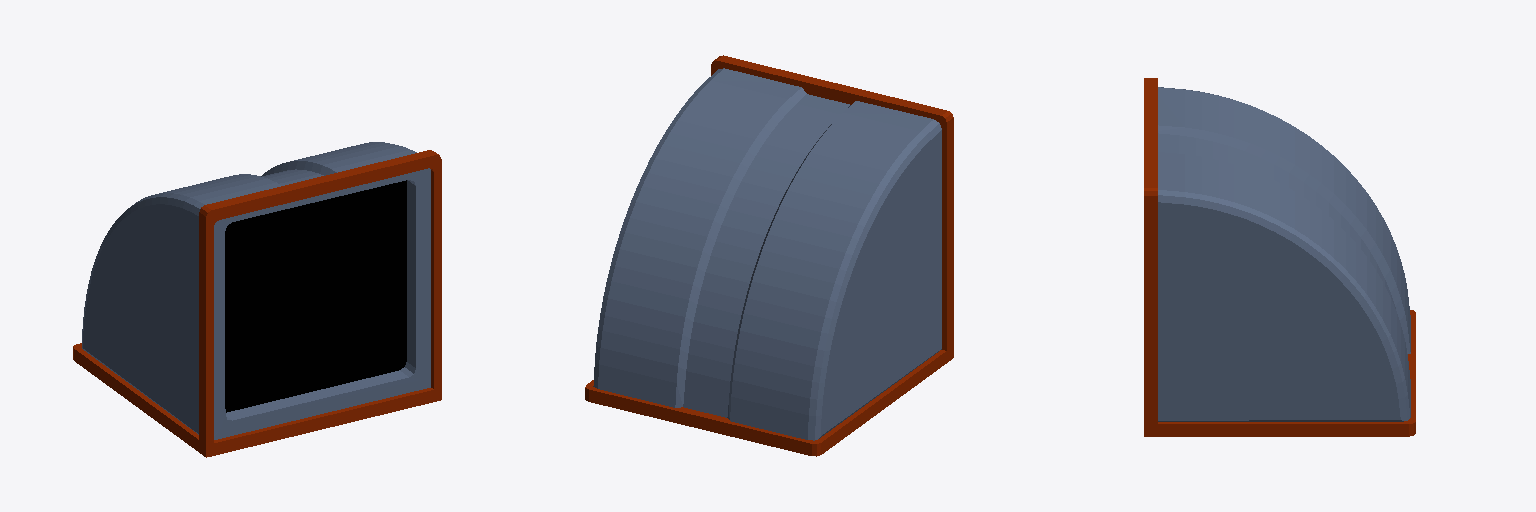
The model's file is TrashProvider.obj.
The picture shows the model from 3 angles: view 1: azimuth 30°, elevation 25°; view 2: azimuth 150°, elevation 25°; view 3: azimuth 270°, elevation 25°; orthographic projection.
Parts seen in each view (by area): view 1: Cube, Plane; view 2: Cube, Plane; view 3: Cube, Plane.
Part boxes in pixels (bbox=[...]): Cube: bbox=[82, 142, 430, 439]; Plane: bbox=[73, 150, 441, 457]; Cube: bbox=[593, 68, 941, 440]; Plane: bbox=[585, 55, 953, 456]; Cube: bbox=[1158, 87, 1410, 421]; Plane: bbox=[1144, 78, 1415, 436].
Bounding box in the file's own units: 6.25 × 6.26 × 6.25.